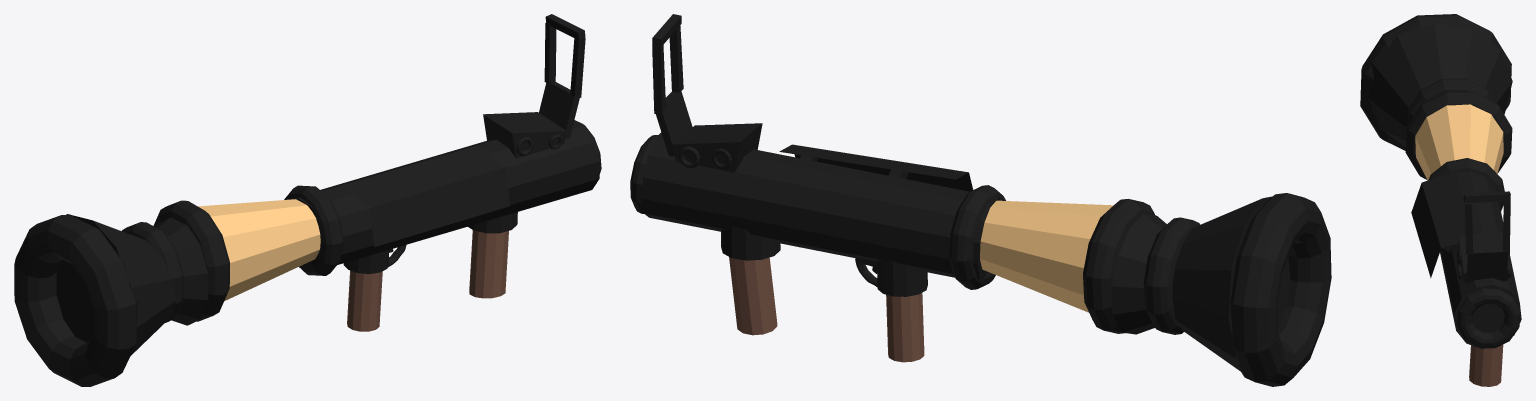
The model's file is bazooka.glb.
The picture shows the model from 3 angles, left to right: view 1: azimuth 30°, elevation 25°; view 2: azimuth 150°, elevation 25°; view 3: azimuth 270°, elevation 25°; orthographic projection. The views are drawn at different scales.
Parts seen in each view (by area): view 1: group1922905185, group1828867005, group1945433059, group312511870, group1830731239, group2069361057, group740280922, group1038678827, group758371842, group318905912, group1086296165, group1858121027 (+6 smaller); view 2: group1945433059, group1922905185, group312511870, group1830731239, group2069361057, group740280922, group1858121027, group758371842, group1038678827, group1828867005, group318905912, group1086296165 (+6 smaller); view 3: group1830731239, group312511870, group1945433059, group1828867005, group1922905185, group1413275444, group2069361057, group758371842, group792977260, group1858121027, group318905912, group1038678827 (+3 smaller).
Boxes of the visible parts, x1,y1,x2,y2 form: group1922905185: [14, 215, 137, 386]; group1828867005: [343, 145, 509, 247]; group1945433059: [288, 121, 599, 264]; group312511870: [198, 199, 320, 300]; group1830731239: [56, 214, 184, 355]; group2069361057: [153, 200, 229, 321]; group740280922: [154, 217, 208, 325]; group1038678827: [483, 112, 566, 158]; group758371842: [469, 230, 508, 298]; group318905912: [284, 185, 343, 275]; group1086296165: [347, 270, 382, 331]; group1858121027: [122, 222, 183, 322]; group1945433059: [641, 132, 1000, 283]; group1922905185: [1230, 193, 1331, 386]; group312511870: [980, 200, 1113, 312]; group1830731239: [1172, 196, 1290, 371]; group2069361057: [1083, 199, 1154, 333]; group740280922: [1111, 214, 1166, 334]; group1858121027: [1143, 217, 1200, 334]; group758371842: [729, 257, 777, 335]; group1038678827: [672, 123, 762, 172]; group1828867005: [779, 144, 972, 191]; group318905912: [949, 185, 1005, 289]; group1086296165: [886, 293, 924, 362]; group1830731239: [1367, 23, 1512, 146]; group312511870: [1415, 104, 1503, 180]; group1945433059: [1440, 171, 1521, 348]; group1828867005: [1411, 171, 1474, 278]; group1922905185: [1360, 14, 1511, 150]; group1413275444: [1457, 288, 1520, 348]; group2069361057: [1405, 91, 1512, 179]; group758371842: [1469, 344, 1503, 386]; group792977260: [1466, 248, 1508, 283]; group1858121027: [1407, 78, 1494, 124]; group318905912: [1428, 158, 1504, 210]; group1038678827: [1458, 232, 1507, 282].
Size of the model in its own units: 1.59 by 0.668 by 0.4408.
